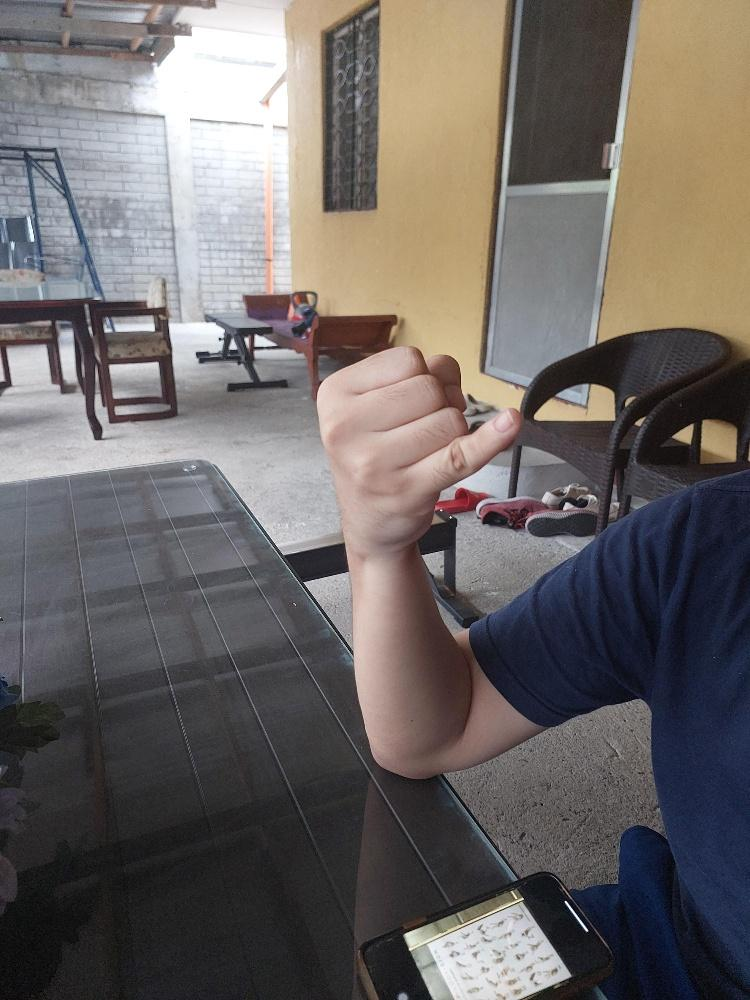j: (312, 339, 526, 559)
